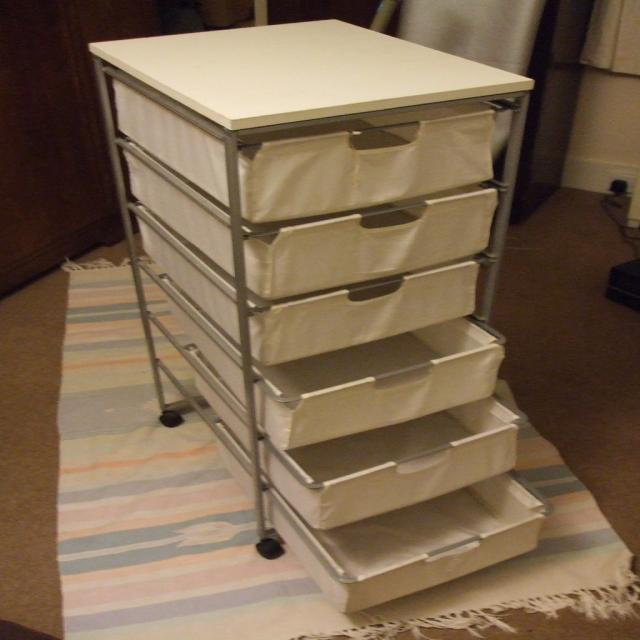beside table: (131, 56, 546, 590)
